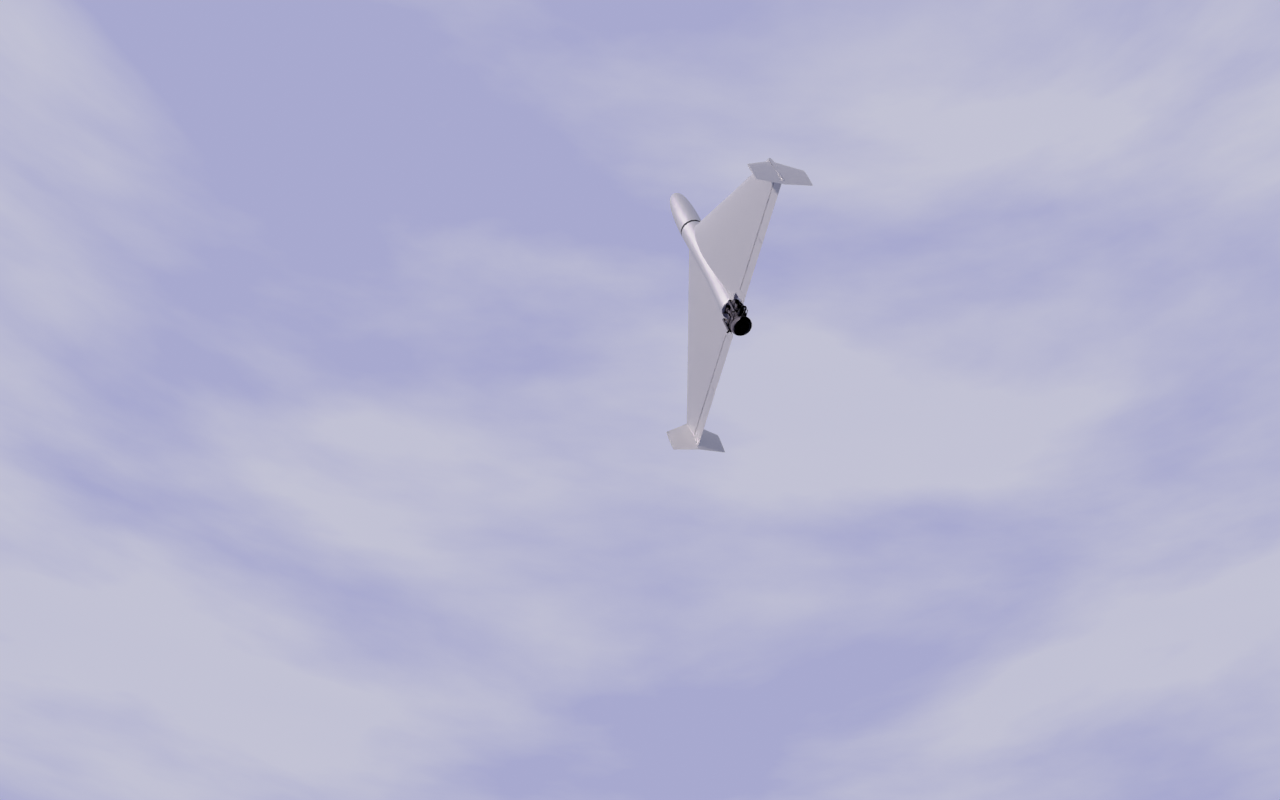shahed: (666, 158, 815, 454)
